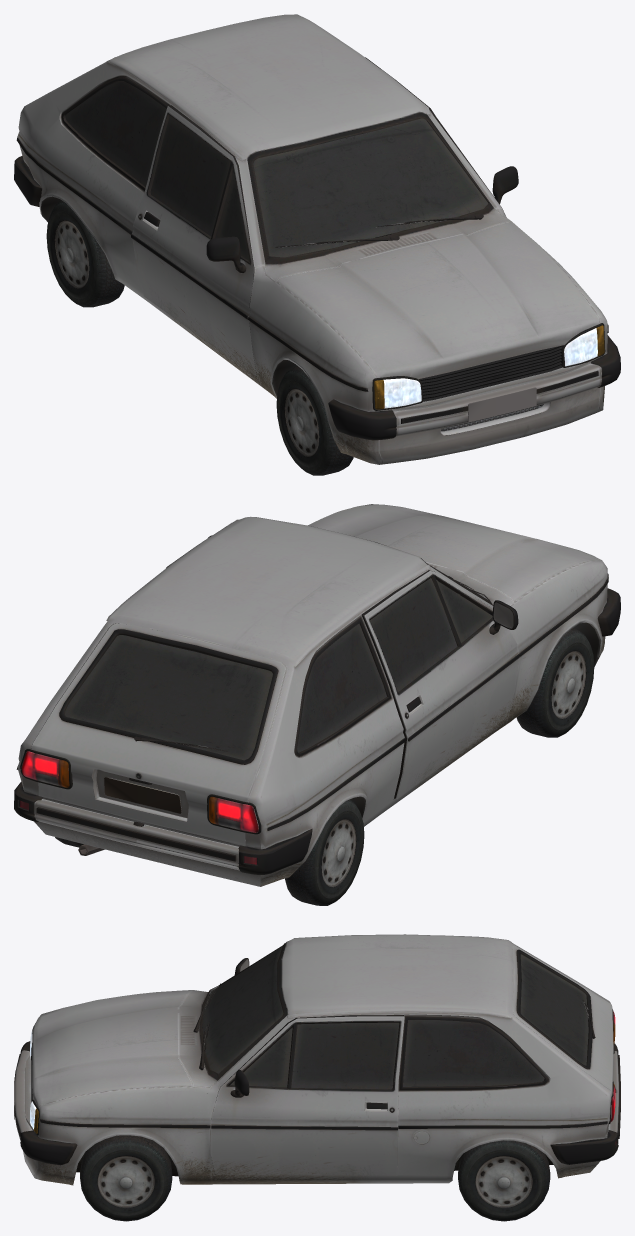
File: good-dirty-car-2.fbx
3 renders of one model, top to bottom at view 1: azimuth 30°, elevation 25°; view 2: azimuth 150°, elevation 25°; view 3: azimuth 270°, elevation 25°, orthographic. The views are drawn at different scales.
Parts seen in each view (by area): view 1: body, door_R, back_wheel, front_wheel, door_L; view 2: body, door_R, front_wheel, back_wheel; view 3: body, door_L, front_wheel, back_wheel.
Part boxes in pixels (x1,y1,x2,y2): body: (14,14,620,464); door_R: (131,105,256,376); back_wheel: (46,200,124,307); front_wheel: (276,366,353,475); door_L: (365,57,518,215); body: (14,504,620,886); door_R: (361,570,519,799); front_wheel: (516,628,594,737); back_wheel: (55,799,364,905); body: (14,934,620,1185); door_L: (210,1015,404,1175); front_wheel: (80,1135,172,1221); back_wheel: (458,1140,550,1221).
Size of the model in its own units: 224 by 172 by 464.
3 materials, 3 textured.
